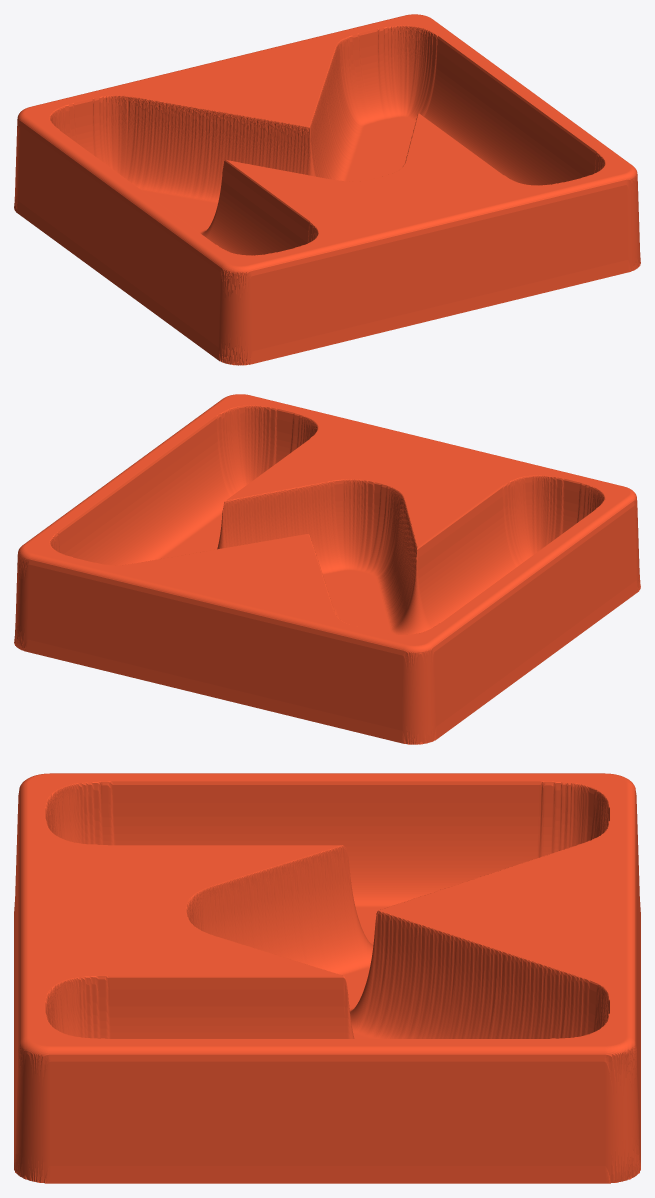
The model's file is mold.glb.
3 renders of one model, top to bottom at view 1: azimuth 30°, elevation 25°; view 2: azimuth 150°, elevation 25°; view 3: azimuth 270°, elevation 25°, orthographic. The views are drawn at different scales.
Parts seen in each view (by area): view 1: geometry_0; view 2: geometry_0; view 3: geometry_0.
Boxes of the visible parts, x1=… form: geometry_0: x1=14, y1=14, x2=640, y2=365; geometry_0: x1=14, y1=394, x2=640, y2=744; geometry_0: x1=14, y1=773, x2=640, y2=1183.
Bounding box in the file's own units: 0.1689 × 0.0365 × 0.1577.
